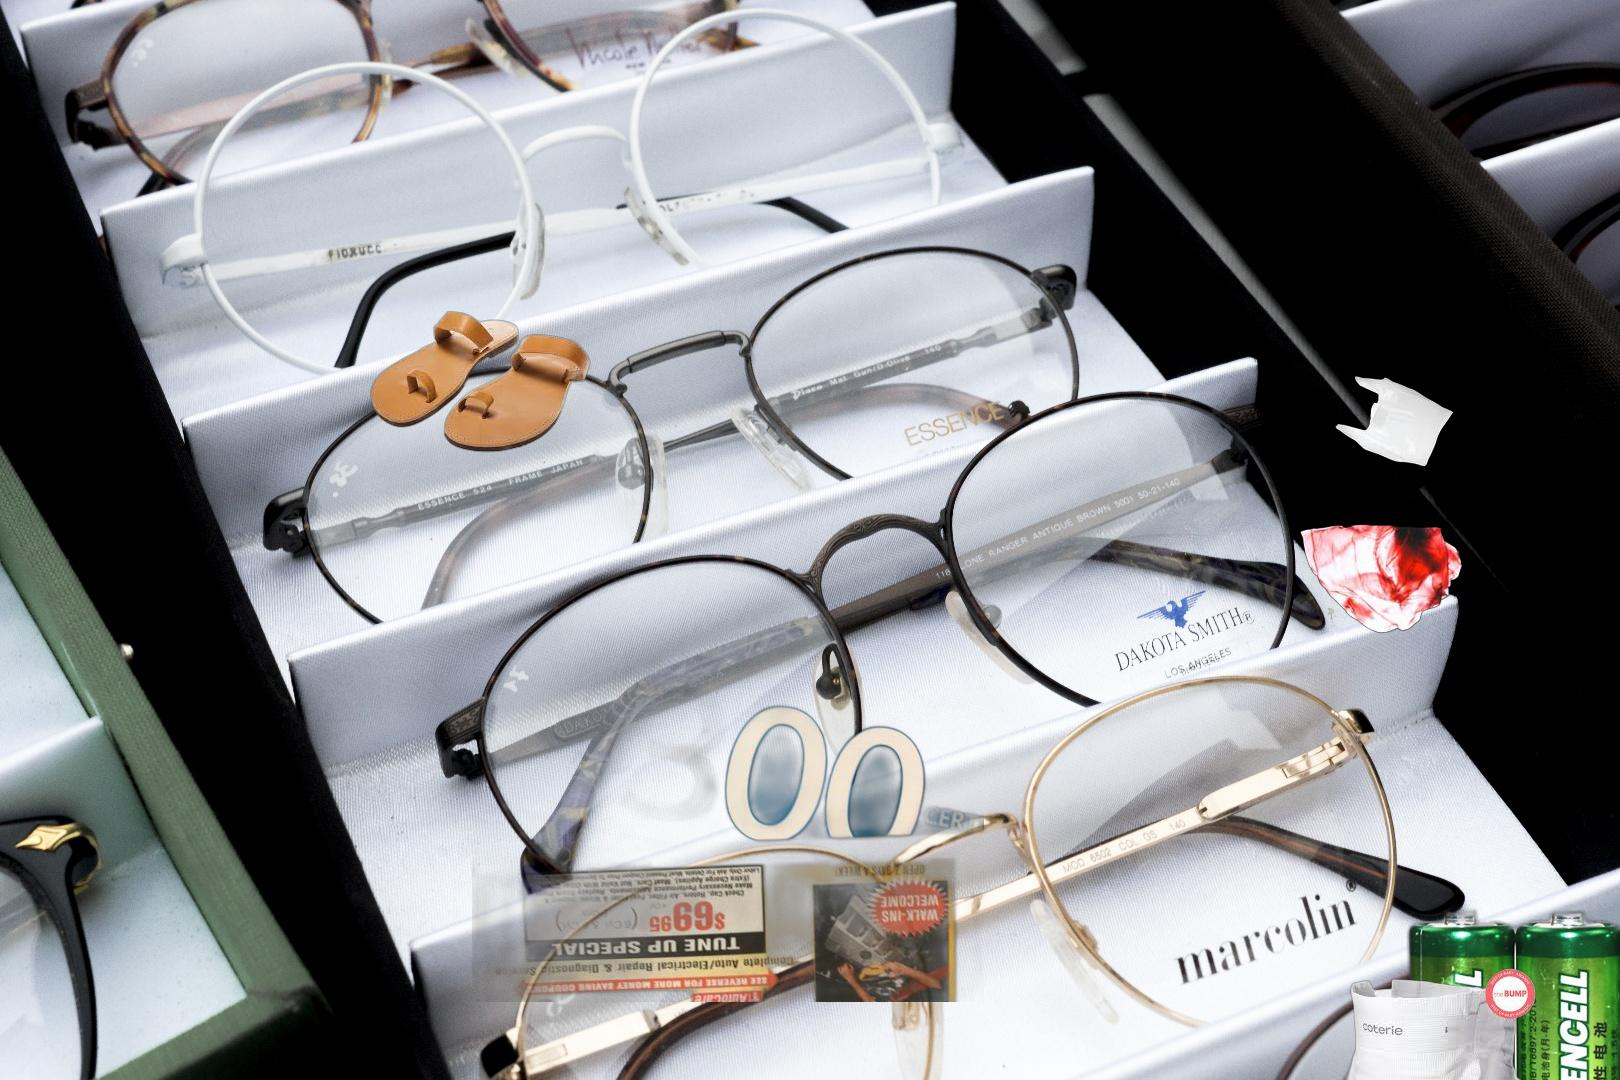battery: (1392, 906, 1620, 1080)
paper: (472, 618, 984, 1002)
plastic-bag: (1297, 372, 1465, 636)
shoes: (368, 309, 592, 454)
trash: (1333, 965, 1538, 1080)
